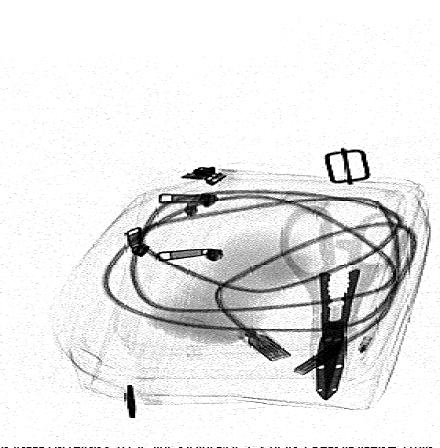Scissors: (277, 203, 413, 407)
